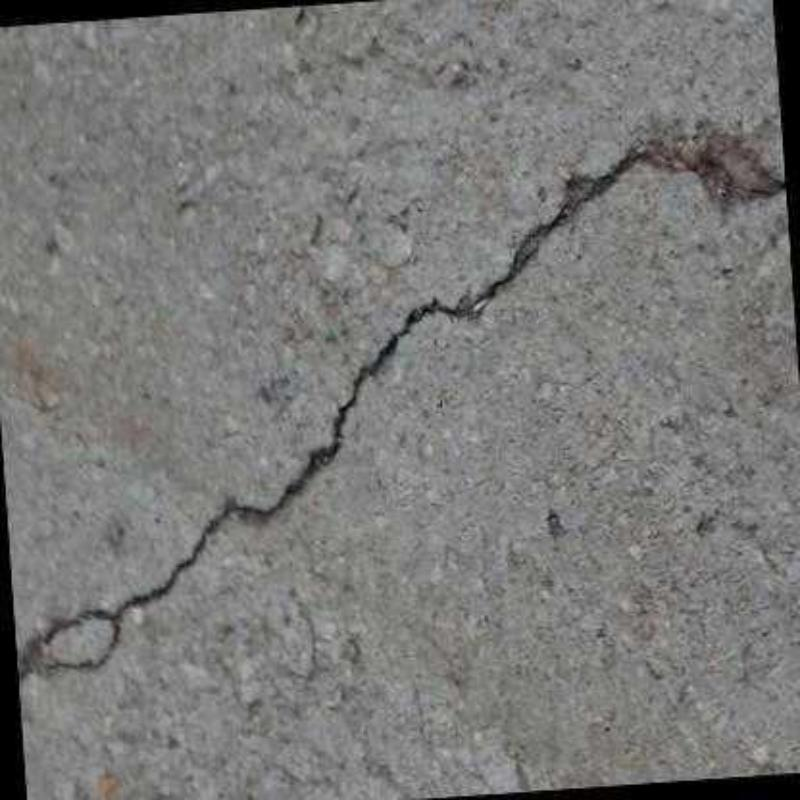crack: (18, 148, 786, 681)
